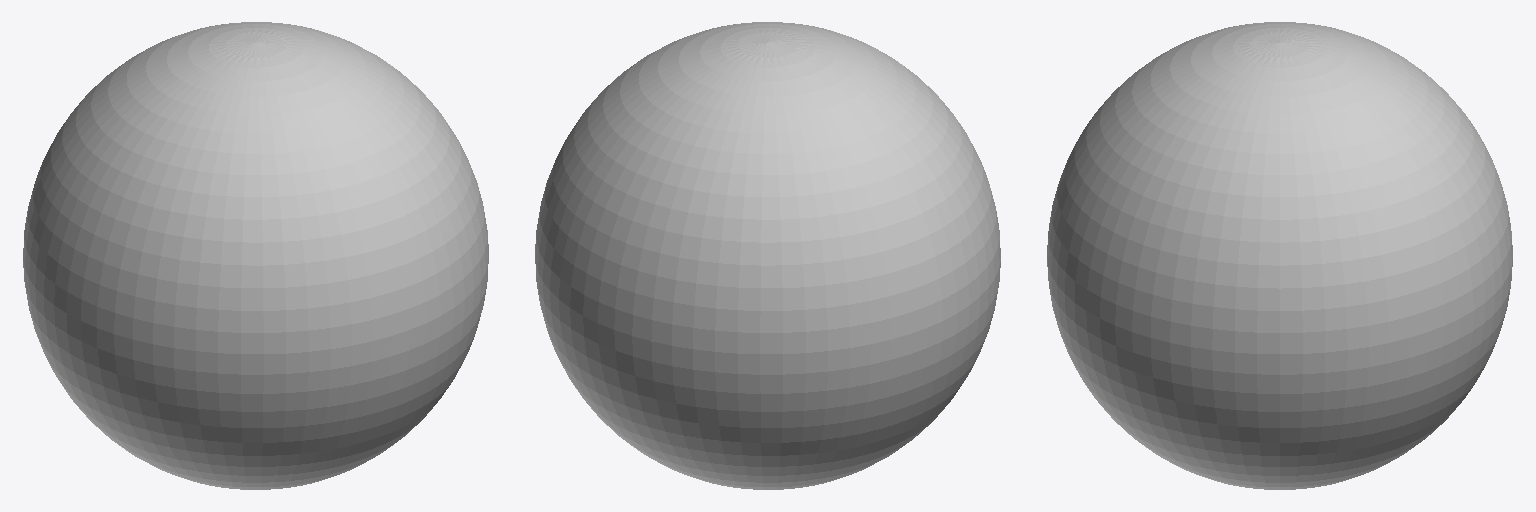
File: Sky.obj
3 views of the same model, side by side, from view 1: azimuth 30°, elevation 25°; view 2: azimuth 150°, elevation 25°; view 3: azimuth 270°, elevation 25° (orthographic).
Parts seen in each view (by area): view 1: 球体; view 2: 球体; view 3: 球体.
Part boxes in pixels (left/top/right/bottom): 球体: left=23, top=22, right=488, bottom=489; 球体: left=535, top=22, right=1000, bottom=489; 球体: left=1047, top=22, right=1512, bottom=489.
Size of the model in its own units: 197 by 200 by 197.